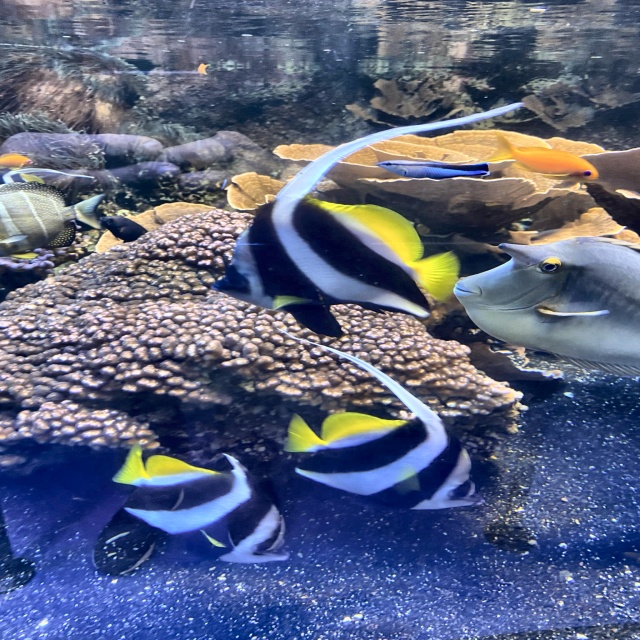fish: (211, 185, 438, 341), (452, 240, 639, 370), (282, 400, 490, 512), (115, 444, 290, 566), (0, 182, 106, 252), (377, 143, 495, 183), (497, 136, 595, 181), (0, 151, 35, 170)
